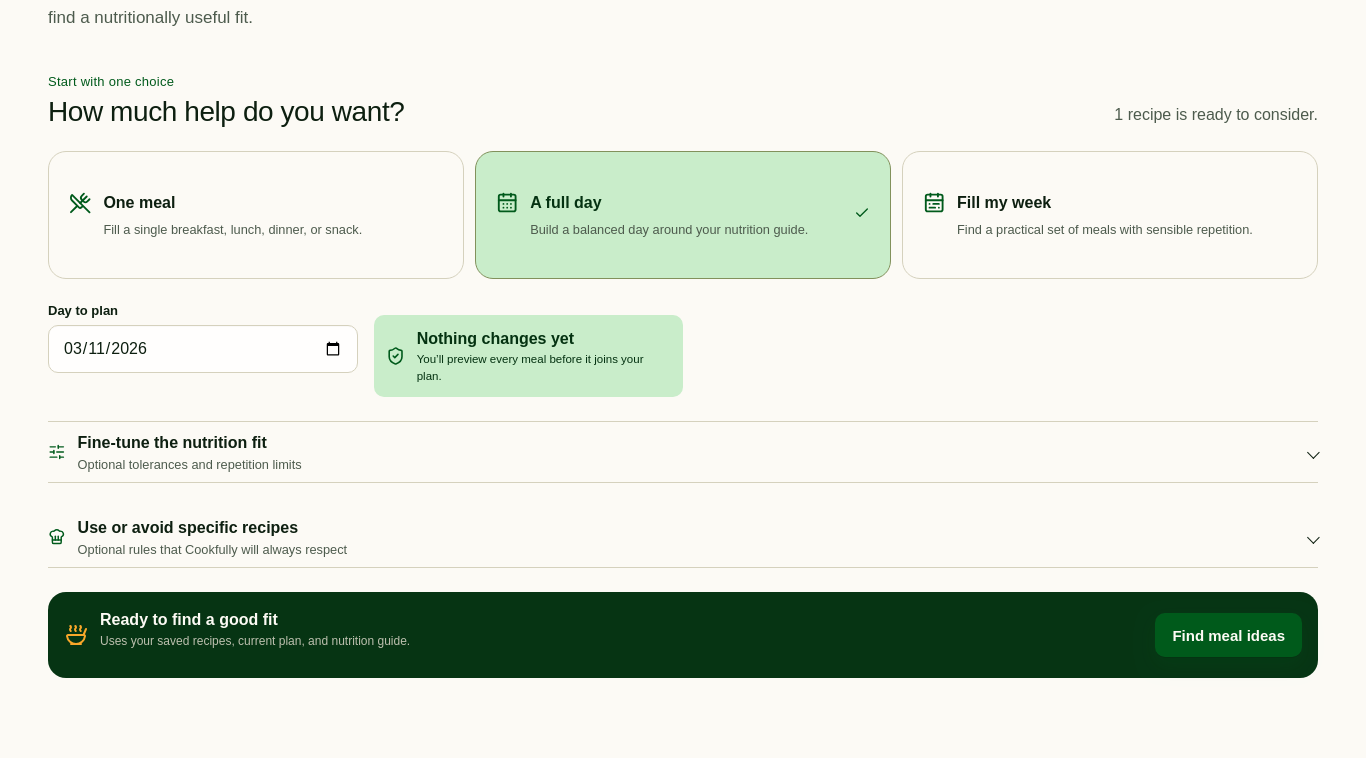
Test case: suggestion UI › names infeasible blockers and withholds acceptance
(page scrolled)
Click the button "Find meal ideas": (1229, 635) [1156,613,1302,657]
(page scrolled)
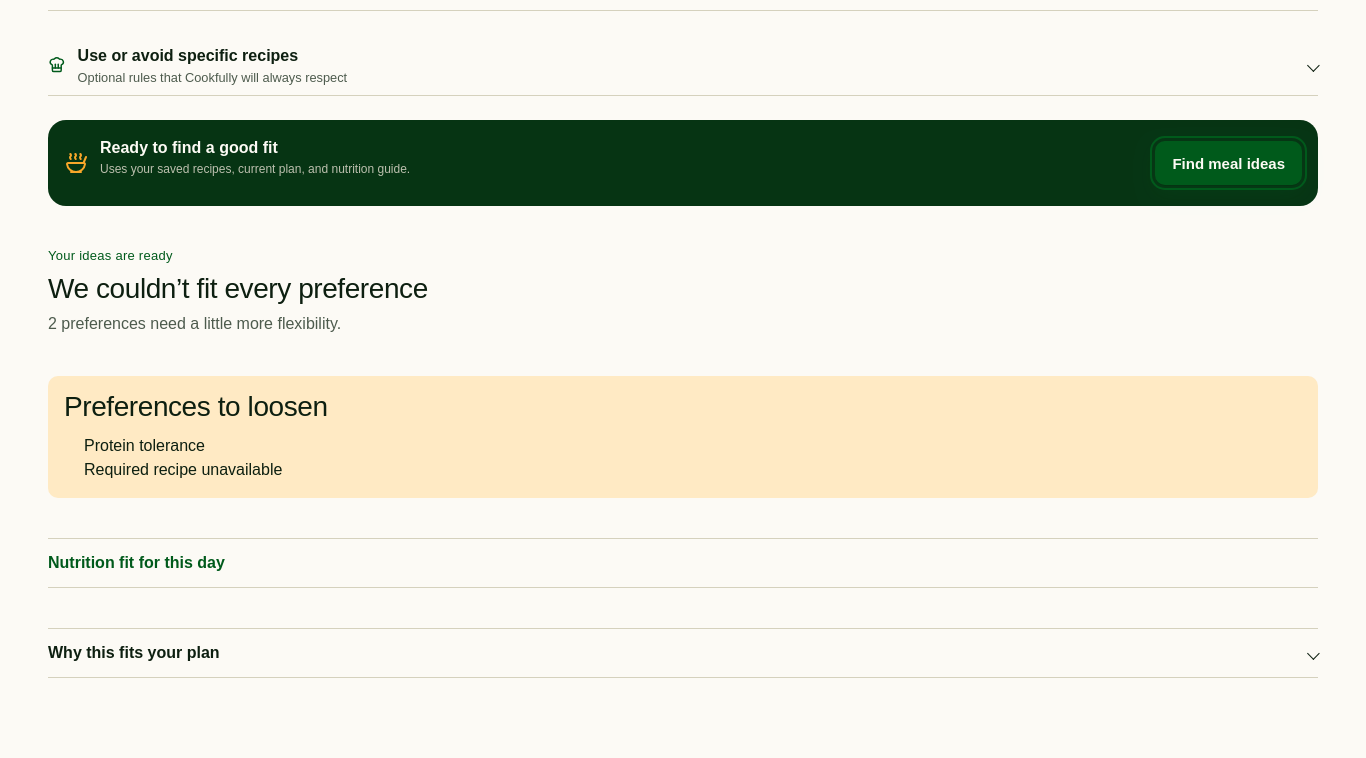
Expected: the heading "We couldn’t fit every preference" is shown, [48,273,428,304]
Expected: the list item "Protein tolerance" is shown, [84,437,205,454]
Expected: the list item "Required recipe unavailable" is shown, [84,461,282,478]
